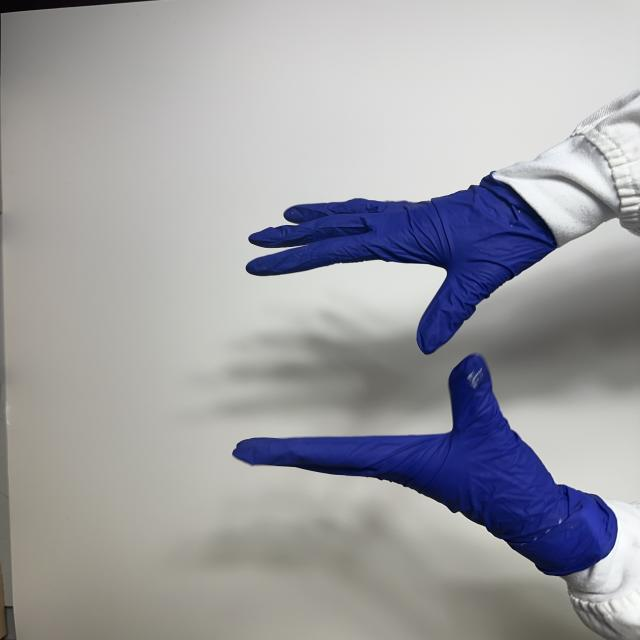gloves_contaminated: (234, 354, 617, 576), (246, 176, 556, 354)
